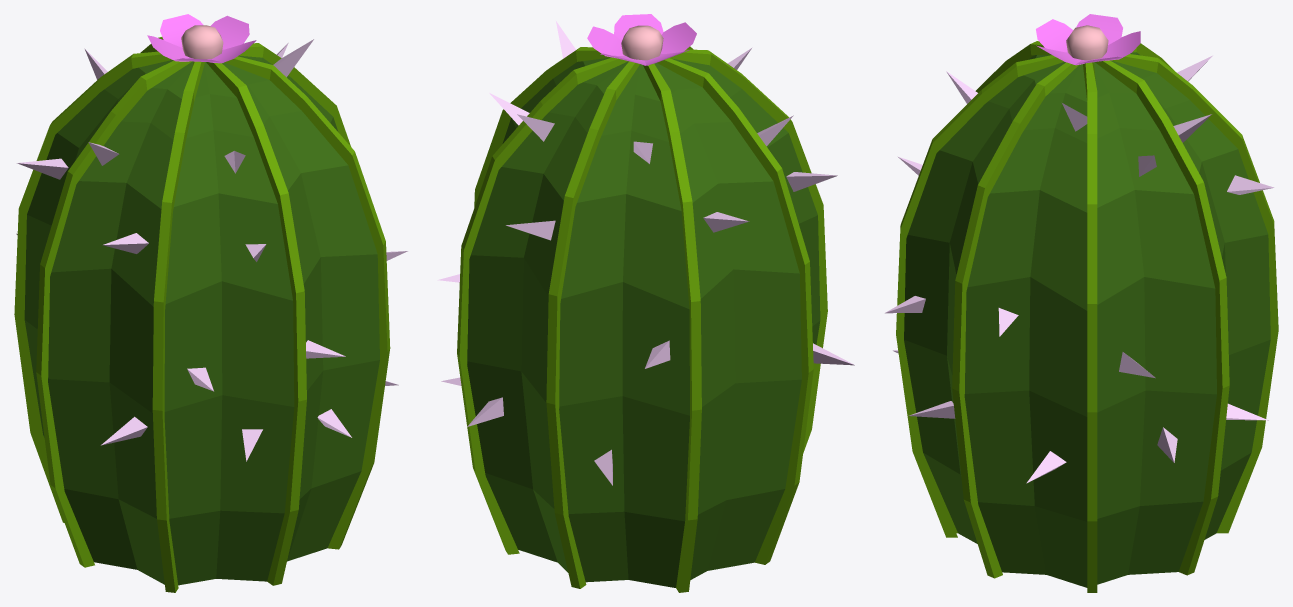
Rendered from Cactus_21_B.fbx.
3 views of the same model, side by side, from view 1: azimuth 30°, elevation 25°; view 2: azimuth 150°, elevation 25°; view 3: azimuth 270°, elevation 25° (orthographic).
Parts seen in each view (by area): view 1: Cactus_21_B; view 2: Cactus_21_B; view 3: Cactus_21_B.
Boxes of the visible parts, x1,y1,x2,y2 form: Cactus_21_B: [14, 14, 407, 592]; Cactus_21_B: [437, 14, 854, 592]; Cactus_21_B: [885, 14, 1278, 592].
Bounding box in the file's own units: 110 × 158 × 112.
